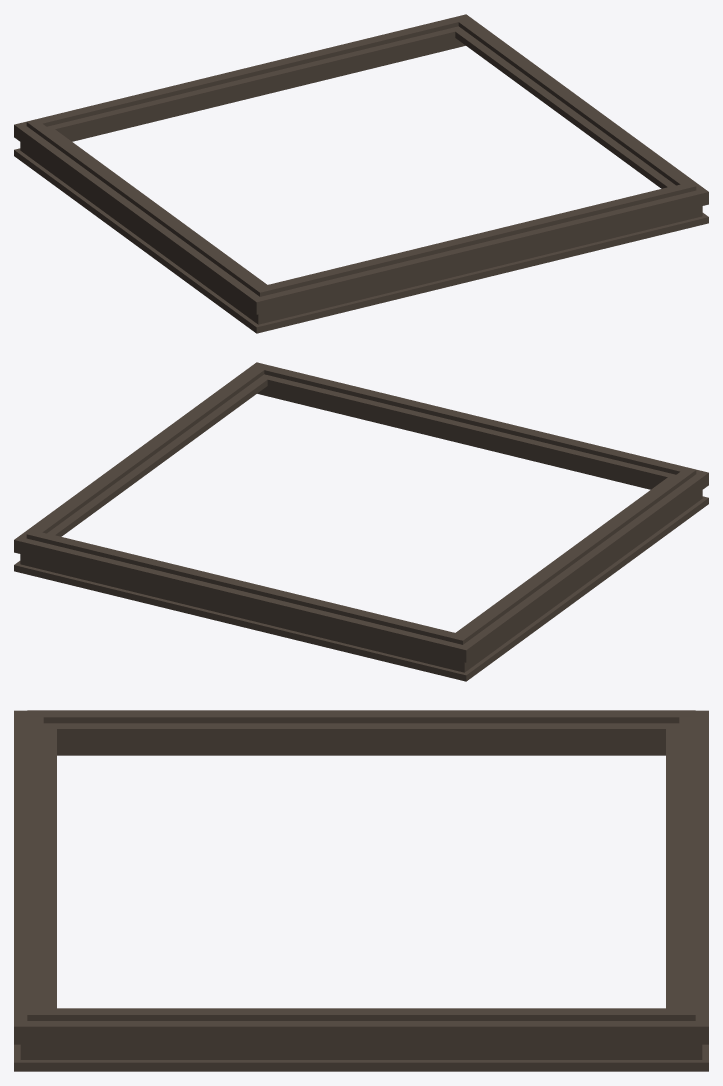
Rendered from ChestBottom.fbx.
3 views of the same model, one above another, from view 1: azimuth 30°, elevation 25°; view 2: azimuth 150°, elevation 25°; view 3: azimuth 270°, elevation 25° (orthographic). The views are drawn at different scales.
Visible parts, largest first — view 1: ChestBottom; view 2: ChestBottom; view 3: ChestBottom.
Boxes of the visible parts, x1,y1,x2,y2 form: ChestBottom: (14,14,708,333); ChestBottom: (14,362,708,681); ChestBottom: (14,710,708,1071).
Bounding box in the file's own units: 5650 × 425 × 5250.
